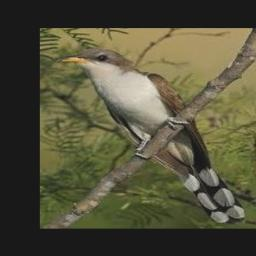Cuckoo: (58, 49, 246, 223)
